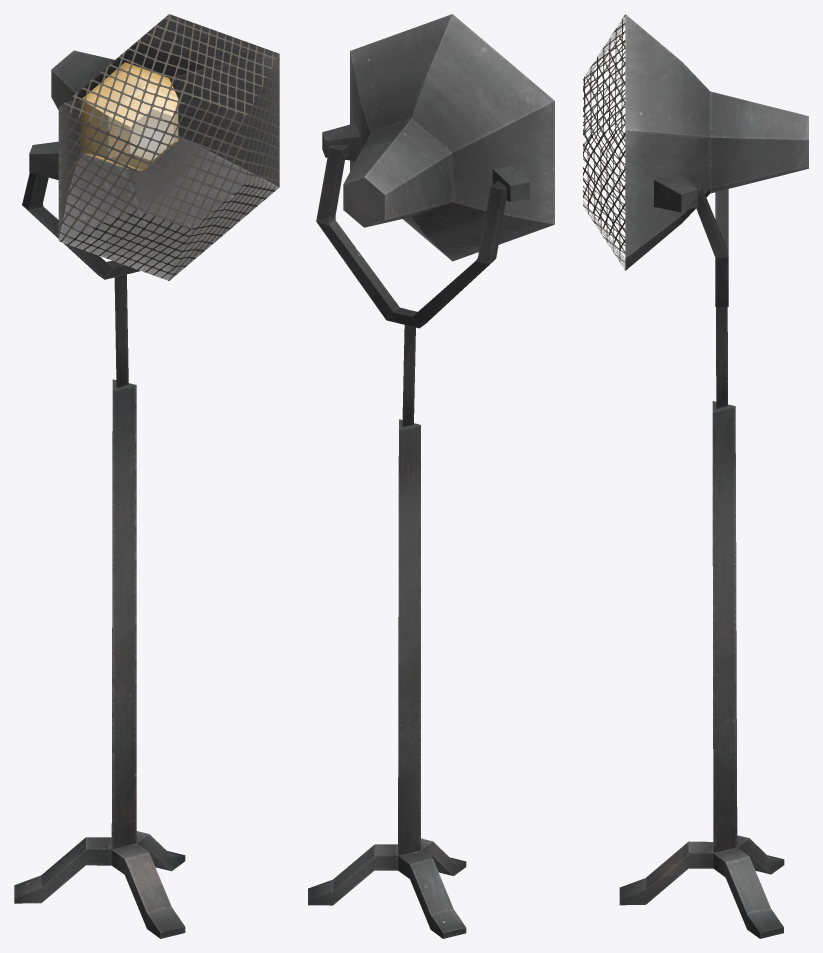
Rendered from Theater.Light_1.fbx.
3 renders of one model, left to right at view 1: azimuth 30°, elevation 25°; view 2: azimuth 150°, elevation 25°; view 3: azimuth 270°, elevation 25°, orthographic. The views are drawn at different scales.
Visible parts, largest first — view 1: Theater.Light_1; view 2: Theater.Light_1; view 3: Theater.Light_1.
Boxes of the visible parts, box(x1,y1,x2,y2) form: Theater.Light_1: box(14, 14, 279, 938); Theater.Light_1: box(308, 14, 554, 938); Theater.Light_1: box(583, 14, 808, 938).
Size of the model in its own units: 44.28 by 175 by 40.38.
